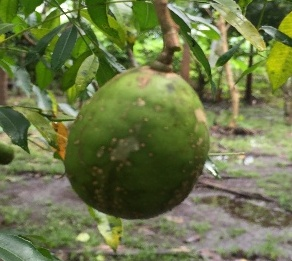Coc: (64, 65, 211, 221)
